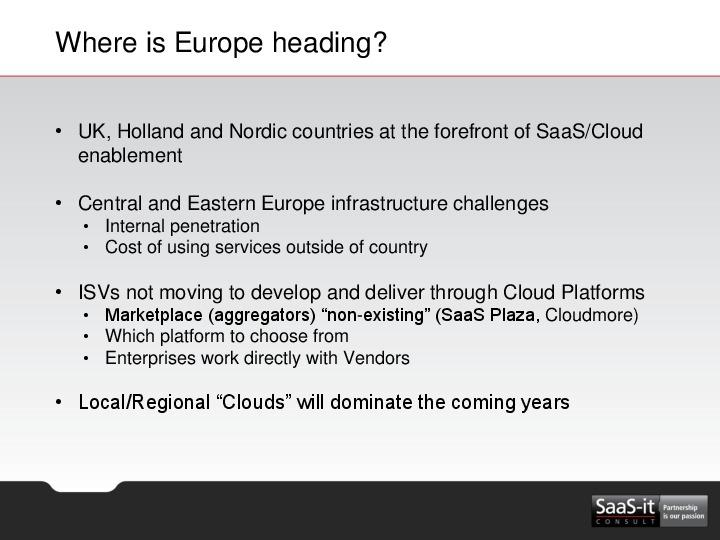paragraph: (45, 103, 693, 448)
title: (48, 15, 397, 65)
